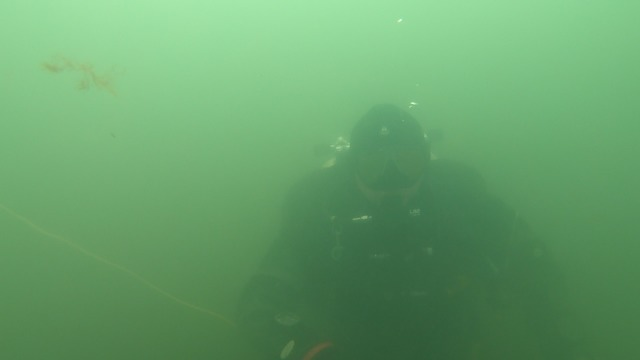Diver: (221, 87, 582, 357)
Head: (320, 94, 441, 243)
